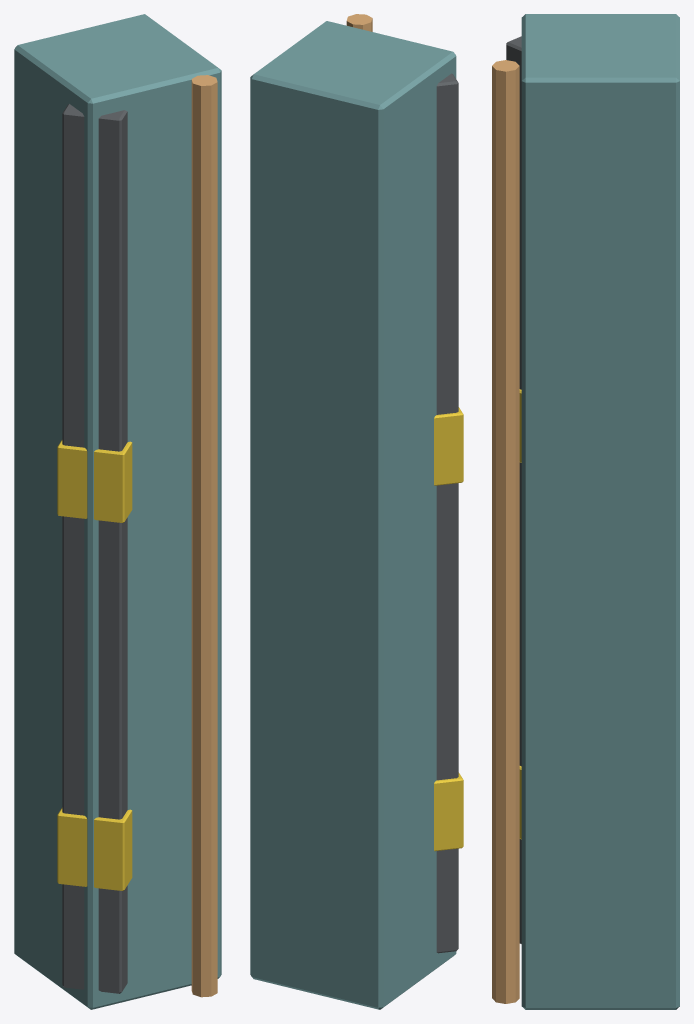
Rendered from corner_pillar.glb.
3 renders of one model, left to right at view 1: azimuth 30°, elevation 25°; view 2: azimuth 150°, elevation 25°; view 3: azimuth 270°, elevation 25°, orthographic. The views are drawn at different scales.
Visible parts, largest first — view 1: corner_pillar; view 2: corner_pillar; view 3: corner_pillar.
Boxes of the visible parts, left/top/right/bottom form: corner_pillar: left=14, top=14, right=221, bottom=1009; corner_pillar: left=250, top=14, right=463, bottom=1009; corner_pillar: left=492, top=14, right=679, bottom=1009.
Bounding box in the file's own units: 0.4545 × 2.6 × 0.475.
